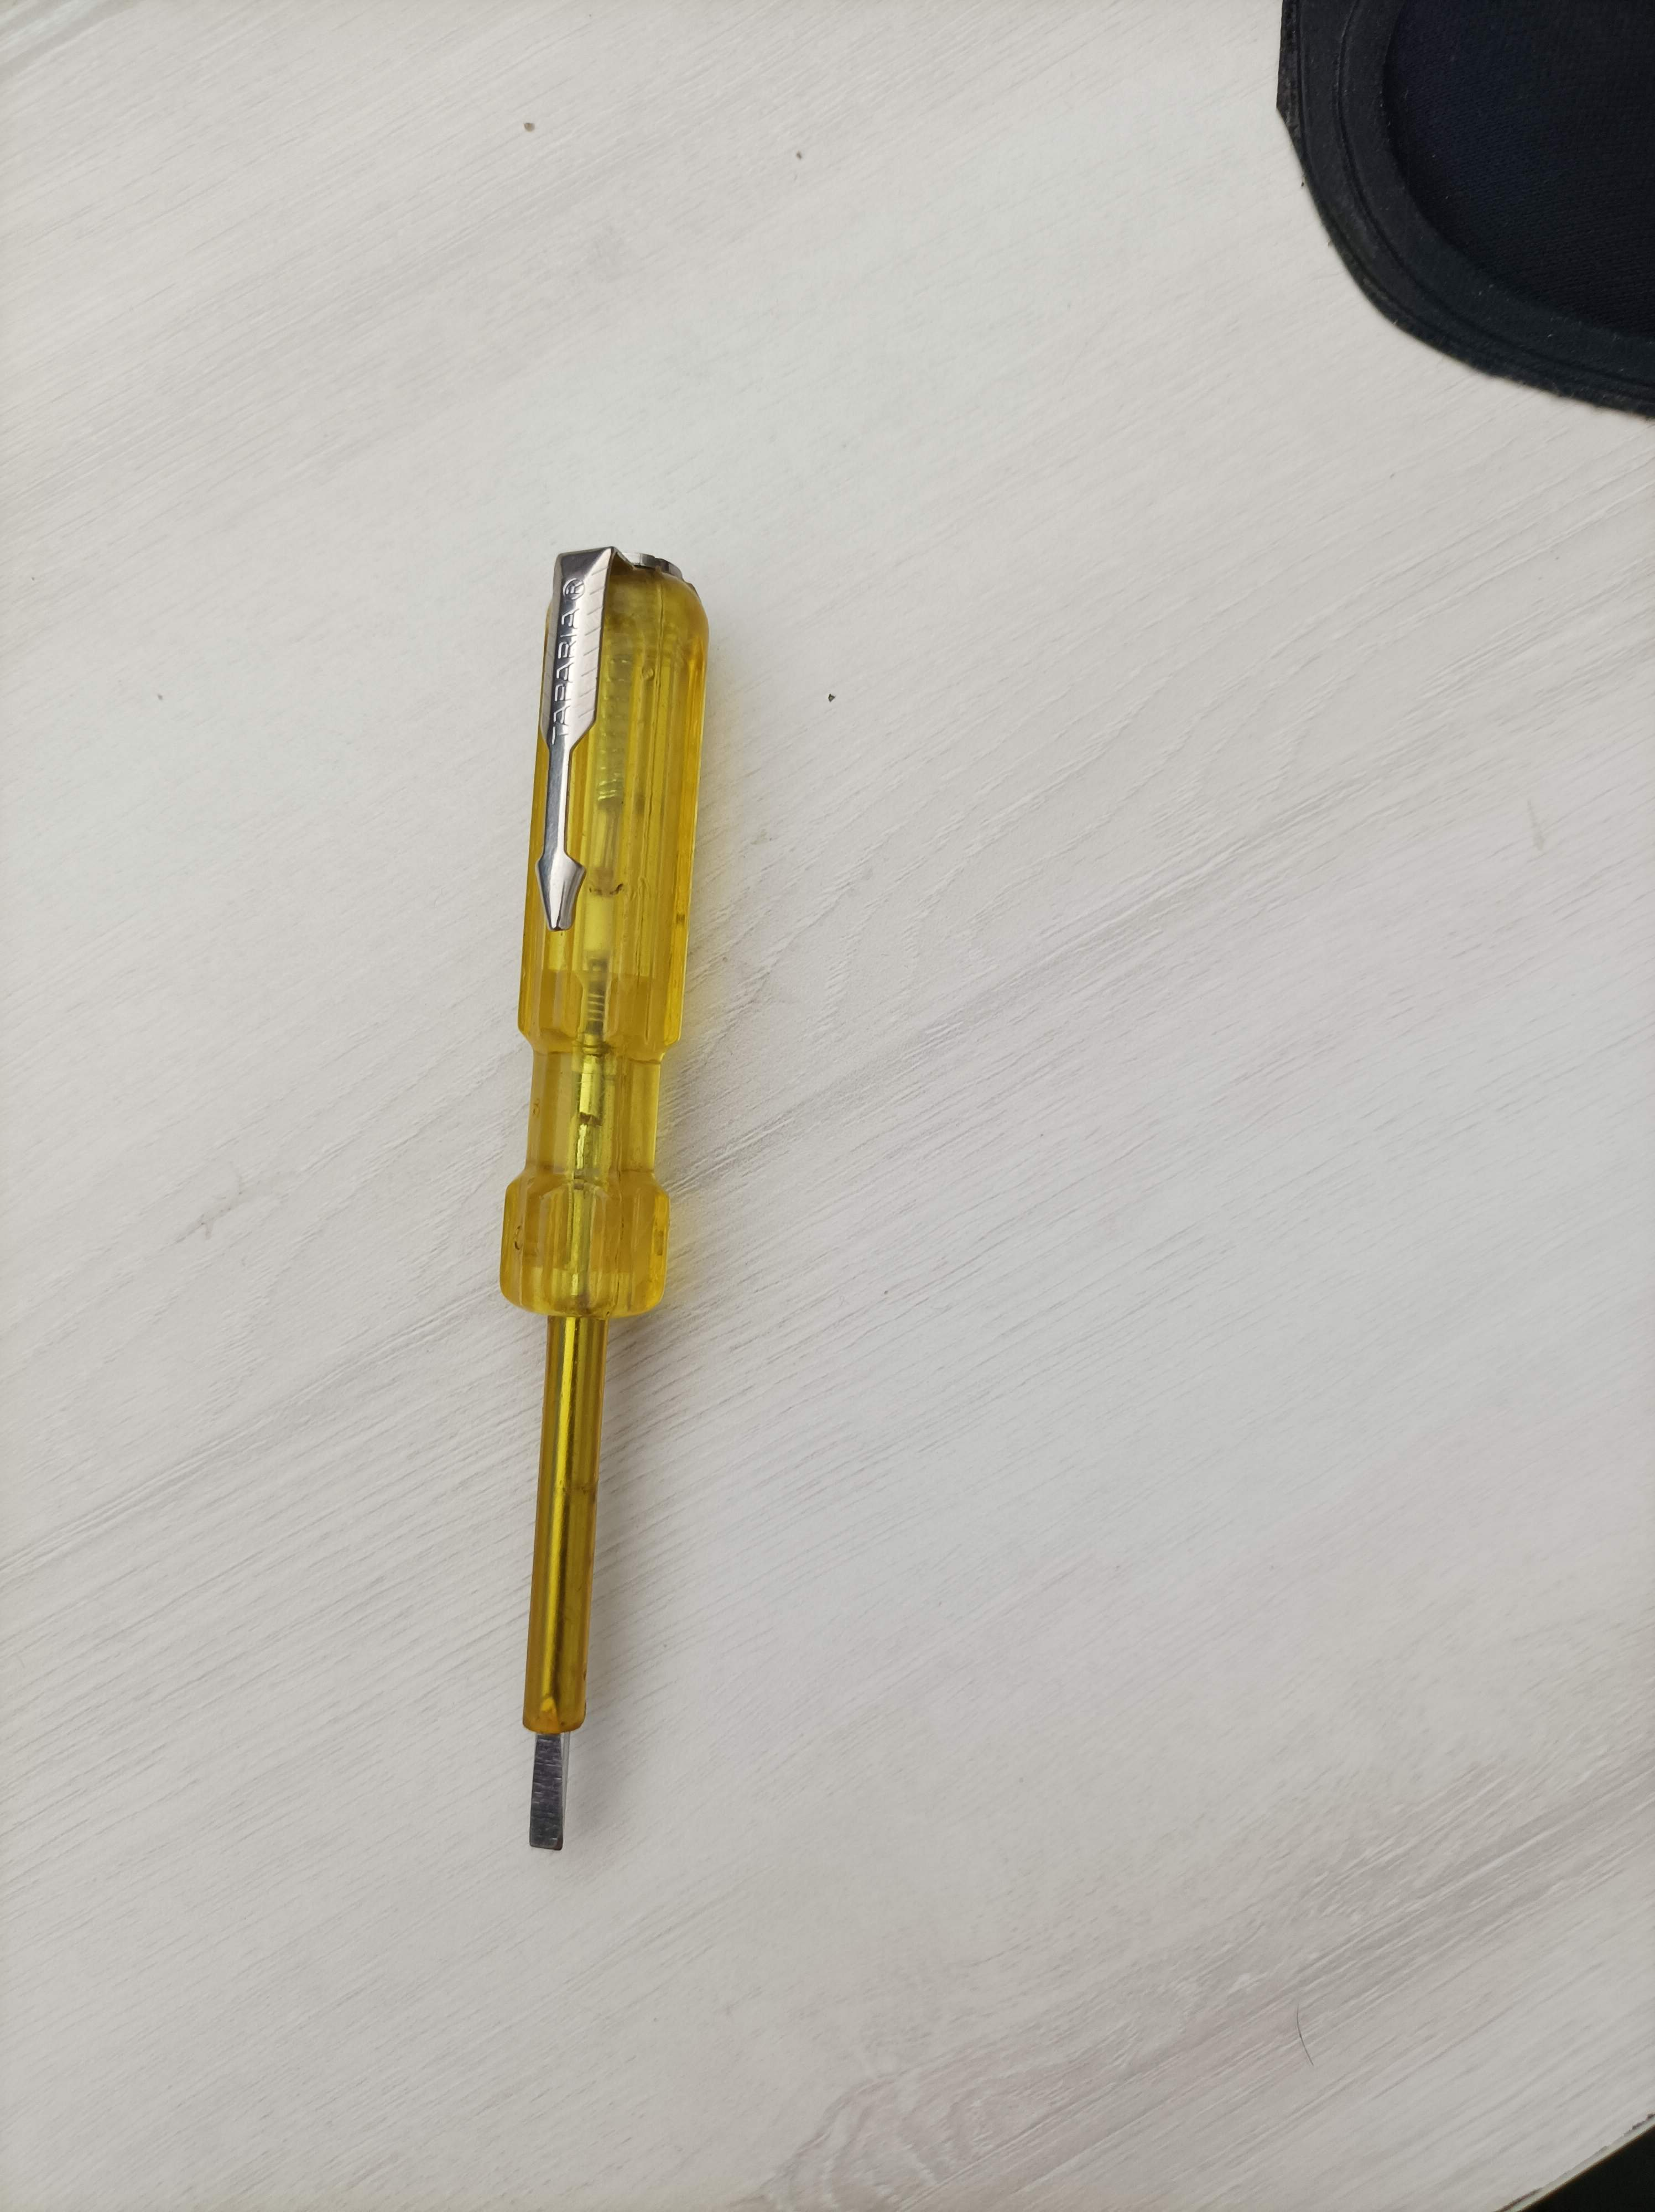screwdriver: (473, 530, 715, 1877)
